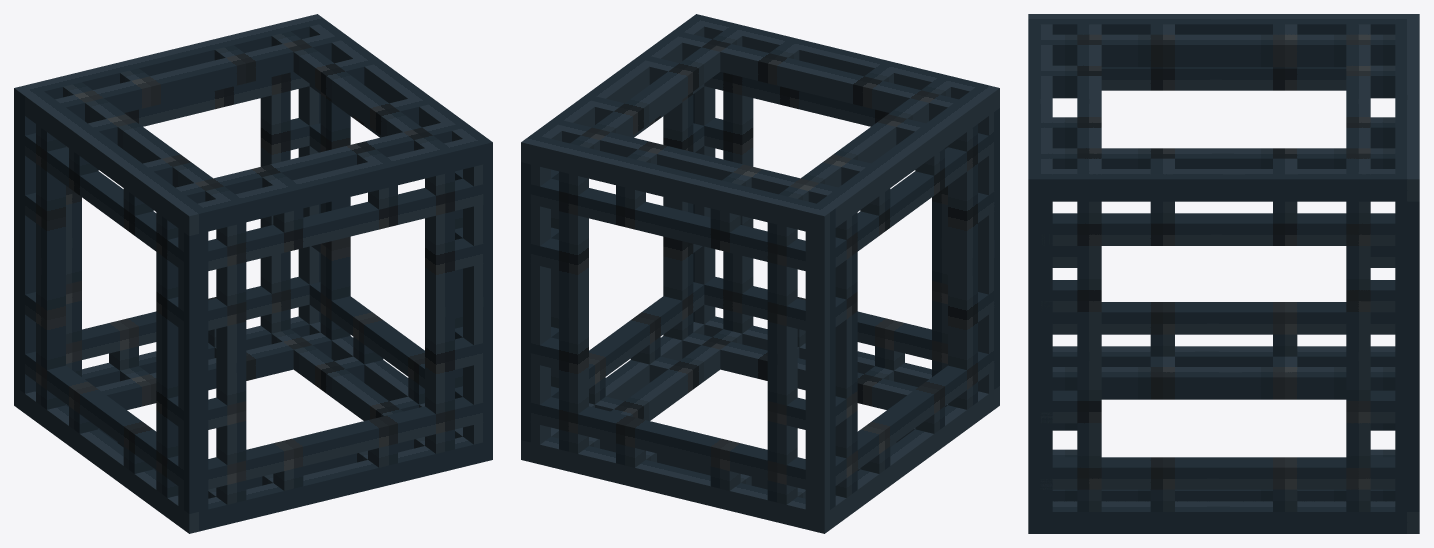
File: block_mob_spawner_cage_0.gltf
The picture shows the model from 3 angles, left to right: view 1: azimuth 30°, elevation 25°; view 2: azimuth 150°, elevation 25°; view 3: azimuth 270°, elevation 25°; orthographic projection. The views are drawn at different scales.
Visible parts, largest first — view 1: Box3 (×6), Box13 (×6), Box8 (×5), Box16 (×5), Box6 (×5), Box2 (×3), Box7 (×2), Box1 (×2), Box15 (×3), Box5 (×2), Box4 (×2), Box14 (×2) (+3 smaller); view 2: Box13 (×6), Box3 (×6), Box6 (×5), Box2 (×3), Box16 (×5), Box8 (×5), Box1 (×2), Box7 (×2), Box4 (×2), Box5 (×2), Box15 (×2), Box9 (×2) (+3 smaller); view 3: Box16 (×4), Box8 (×3), Box3 (×3), Box6 (×3), Box13 (×3), Box2 (×2), Box1 (×2), Box7 (×2), Box14 (×3), Box4 (×3), Box9 (×3), Box11 (×3) (+4 smaller).
Boxes of the visible parts, box(x1,y1,x2,y2) form: Box3 (×6): box(25, 30, 492, 493); Box13 (×6): box(156, 31, 462, 497); Box8 (×5): box(36, 82, 350, 504); Box16 (×5): box(178, 22, 492, 513); Box6 (×5): box(25, 72, 492, 489); Box2 (×3): box(14, 88, 208, 533); Box7 (×2): box(198, 134, 492, 529); Box1 (×2): box(14, 14, 327, 413); Box15 (×3): box(290, 94, 492, 270); Box5 (×2): box(143, 154, 246, 330); Box4 (×2): box(88, 114, 246, 429); Box14 (×2): box(335, 54, 492, 369); Box13 (×6): box(559, 31, 977, 453); Box3 (×6): box(521, 120, 999, 489); Box6 (×5): box(521, 30, 999, 409); Box2 (×3): box(805, 83, 999, 525); Box16 (×5): box(521, 22, 999, 444); Box8 (×5): box(551, 82, 950, 504); Box1 (×2): box(521, 134, 835, 533); Box7 (×2): box(686, 14, 980, 387); Box4 (×2): box(767, 154, 870, 429); Box5 (×2): box(767, 114, 925, 330); Box15 (×2): box(521, 118, 723, 270); Box9 (×2): box(710, 346, 904, 490); Box16 (×4): box(1028, 169, 1419, 533); Box8 (×3): box(1052, 34, 1395, 511); Box3 (×3): box(1028, 24, 1395, 489); Box6 (×3): box(1028, 24, 1395, 245); Box13 (×3): box(1052, 148, 1395, 511); Box2 (×2): box(1028, 14, 1395, 366); Box1 (×2): box(1395, 14, 1419, 533); Box7 (×2): box(1028, 24, 1052, 533); Box14 (×3): box(1028, 158, 1297, 423); Box4 (×3): box(1273, 24, 1395, 423); Box9 (×3): box(1273, 65, 1395, 511); Box11 (×3): box(1150, 117, 1395, 511).
Bounding box in the file's own units: 1 × 1 × 1.
1 material, 1 textured.
